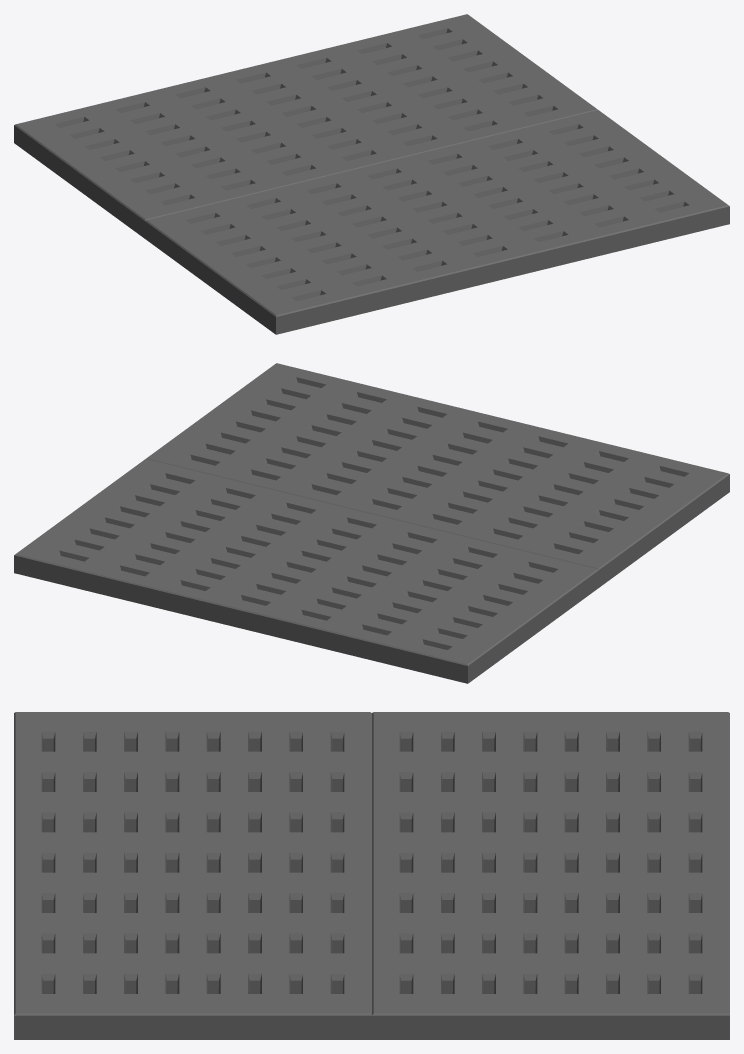
The model's file is Pig_Floor.fbx.
The picture shows the model from 3 angles, top to bottom: view 1: azimuth 30°, elevation 25°; view 2: azimuth 150°, elevation 25°; view 3: azimuth 270°, elevation 25°; orthographic projection. The views are drawn at different scales.
Parts seen in each view (by area): view 1: Sinkholes.complete; view 2: Sinkholes.complete; view 3: Sinkholes.complete.
Part boxes in pixels (x1,y1,x2,y2): Sinkholes.complete: (14, 14, 729, 334); Sinkholes.complete: (14, 363, 729, 683); Sinkholes.complete: (14, 712, 729, 1039).
Bounding box in the file's own units: 200 × 7.97 × 200.
1 material, 1 textured.
